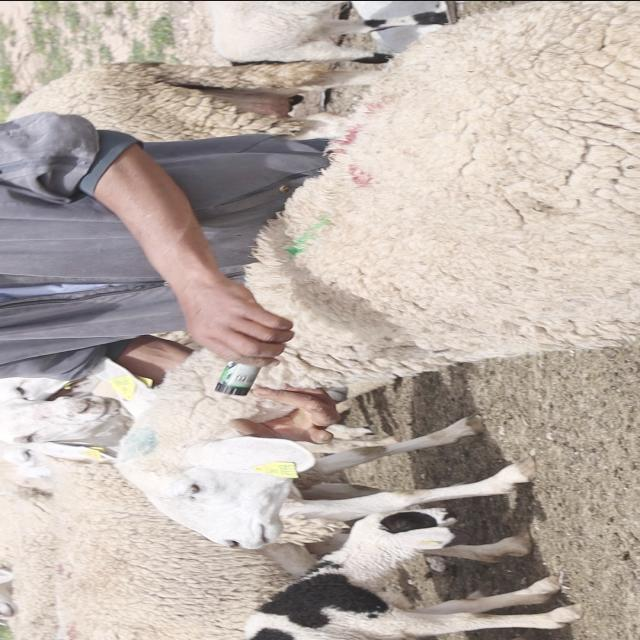Score_2: (97, 0, 639, 548)
